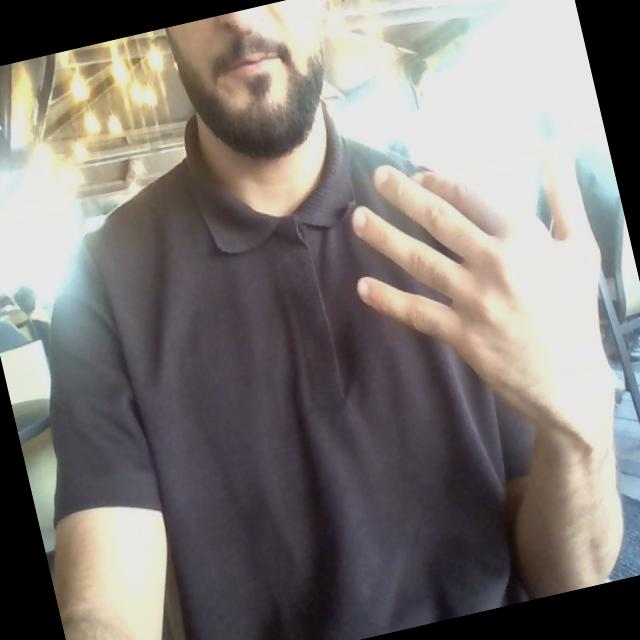Hand: (352, 159, 613, 448)
